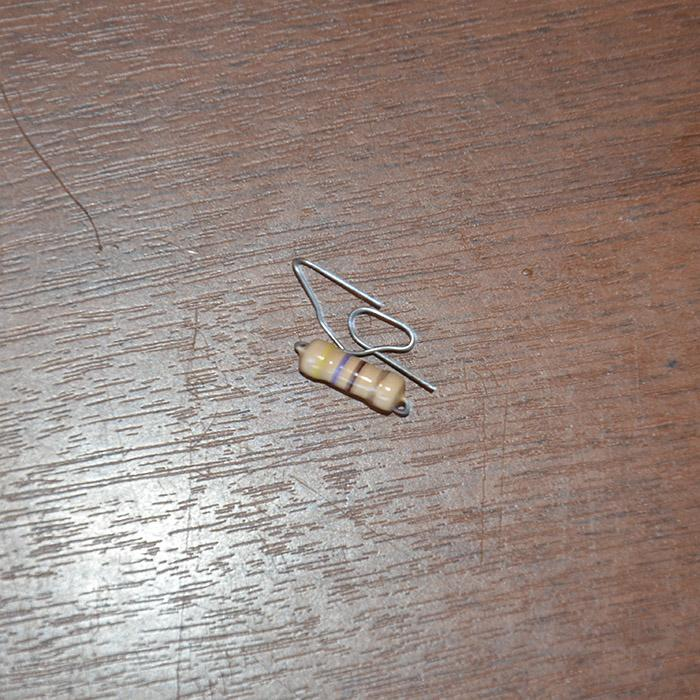resistor: (294, 338, 408, 415)
